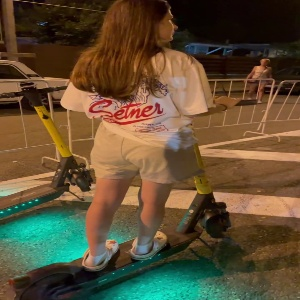human on a scooter: (8, 1, 262, 300)
